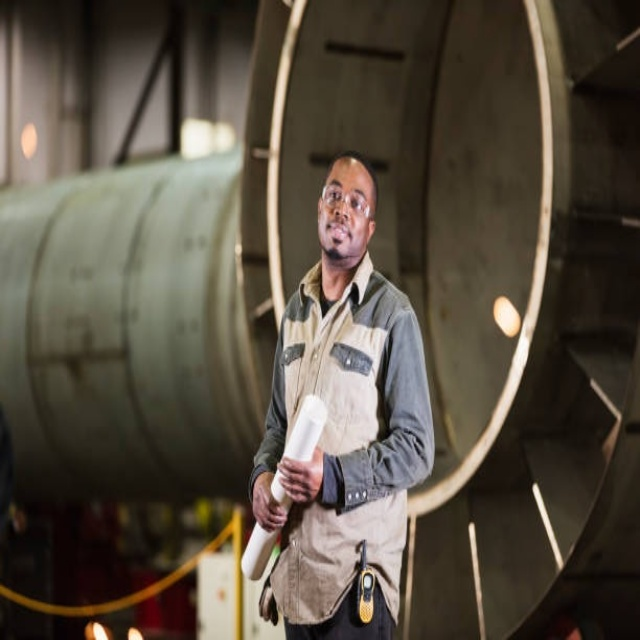Gafas: (321, 187, 373, 220)
Sin_guantes: (277, 444, 325, 505), (254, 467, 290, 533)
Sin_mascara: (321, 216, 357, 251)
